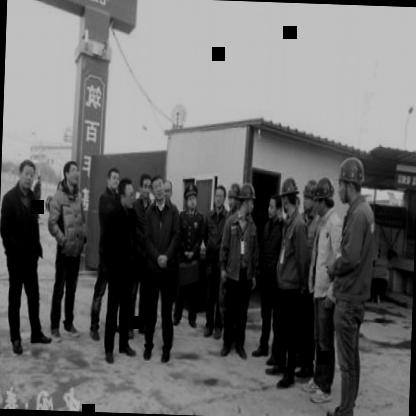head: (16, 155, 38, 195), (117, 176, 138, 212), (61, 158, 82, 191), (264, 190, 284, 224), (104, 162, 123, 193), (136, 170, 154, 202), (150, 174, 166, 204), (213, 182, 228, 212), (161, 177, 174, 202)
helmet: (335, 156, 366, 206), (312, 177, 335, 218), (278, 176, 298, 218), (237, 180, 256, 218), (300, 178, 318, 218), (225, 180, 240, 214)
